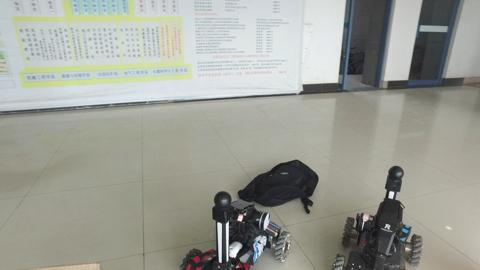chariot: (331, 165, 430, 269), (179, 187, 292, 268)
